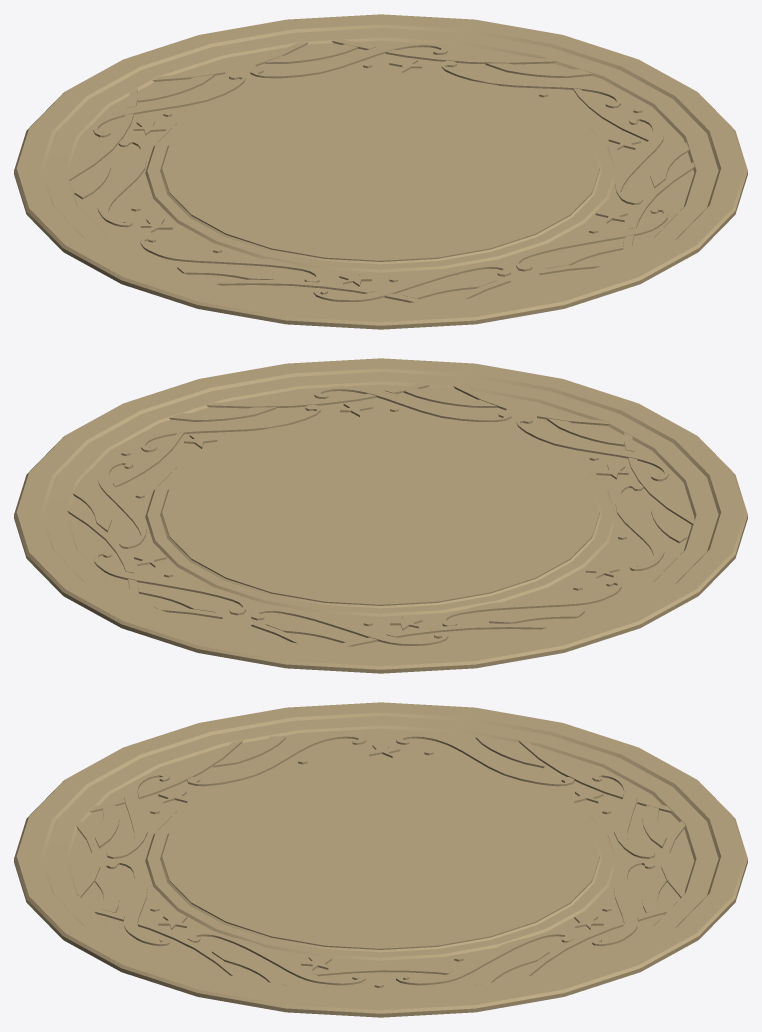
Rendered from Floor_01.fbx.
3 views of the same model, one above another, from view 1: azimuth 30°, elevation 25°; view 2: azimuth 150°, elevation 25°; view 3: azimuth 270°, elevation 25° (orthographic).
Visible parts, largest first — view 1: Floor_01; view 2: Floor_01; view 3: Floor_01.
Boxes of the visible parts, x1=… form: Floor_01: x1=14, y1=14, x2=747, y2=329; Floor_01: x1=14, y1=358, x2=747, y2=673; Floor_01: x1=14, y1=702, x2=747, y2=1017.
Size of the model in its own units: 1428 by 13.42 by 1428.
